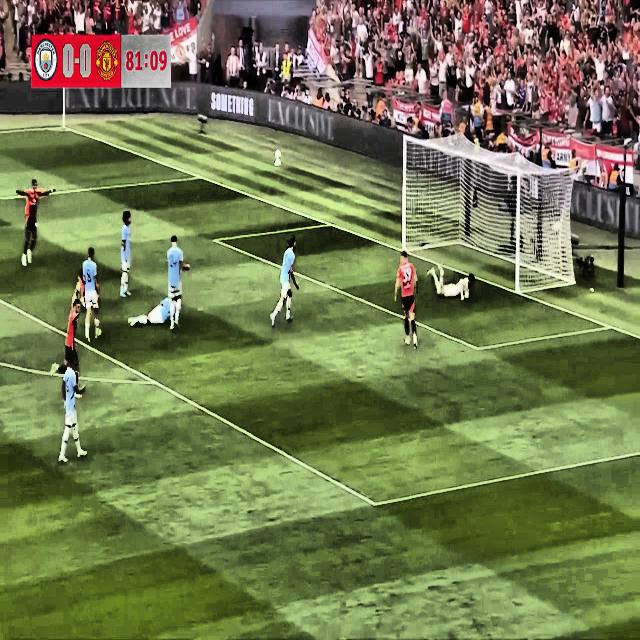ball: (550, 212, 563, 245)
goal_keeper: (425, 258, 481, 309)
players: (56, 352, 90, 472), (17, 165, 55, 271), (392, 242, 426, 356), (270, 230, 301, 333), (54, 299, 85, 402), (164, 231, 194, 333), (80, 243, 106, 348), (115, 198, 136, 306), (128, 292, 182, 333), (67, 258, 94, 317)
